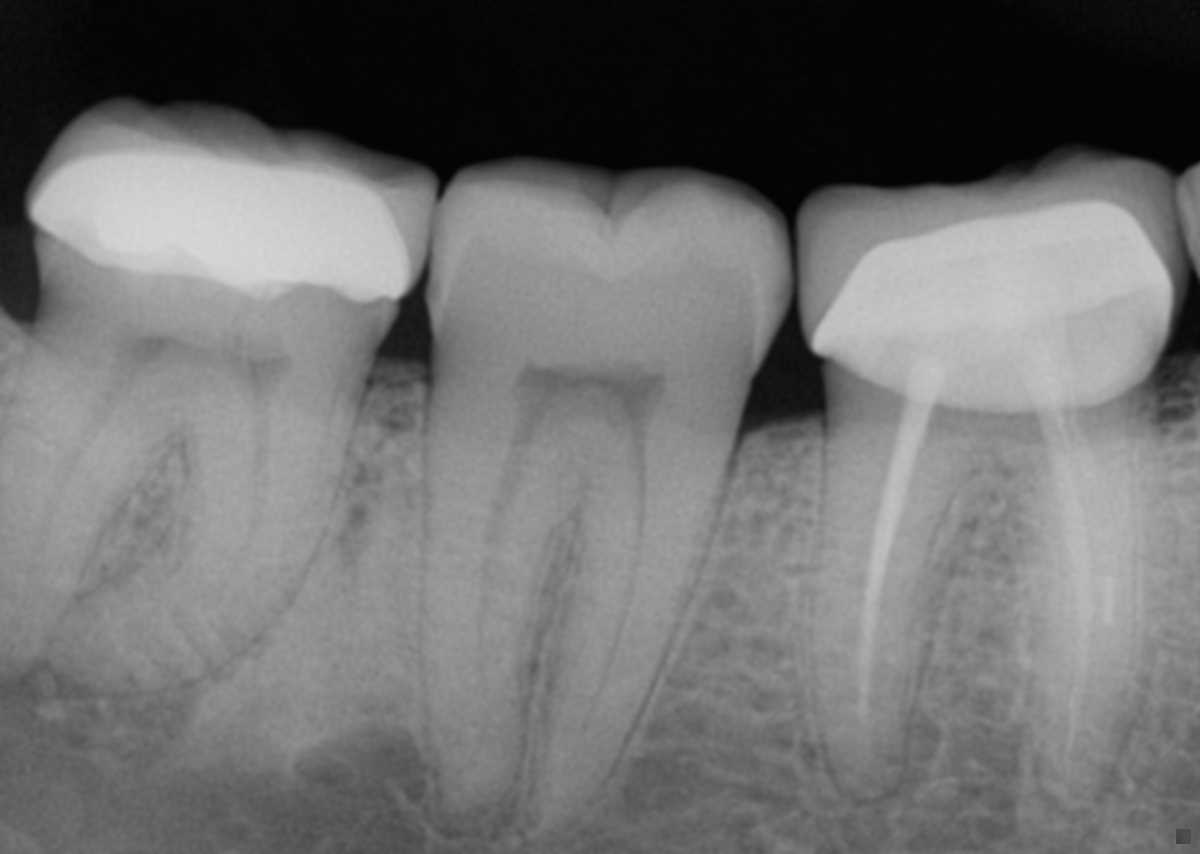Apical Lesion: (14, 662, 207, 767), (843, 719, 941, 844)
Distal Canal: (22, 383, 123, 620), (478, 439, 535, 761)
Distal Root: (424, 411, 570, 814), (0, 345, 177, 676), (811, 432, 967, 803)
Mesial Canal: (172, 408, 271, 632), (582, 455, 647, 742)
Mesial Root: (58, 393, 359, 692), (536, 450, 731, 827), (1010, 453, 1167, 804)
Root Canal Filling: (861, 397, 930, 736), (1042, 411, 1093, 761)
